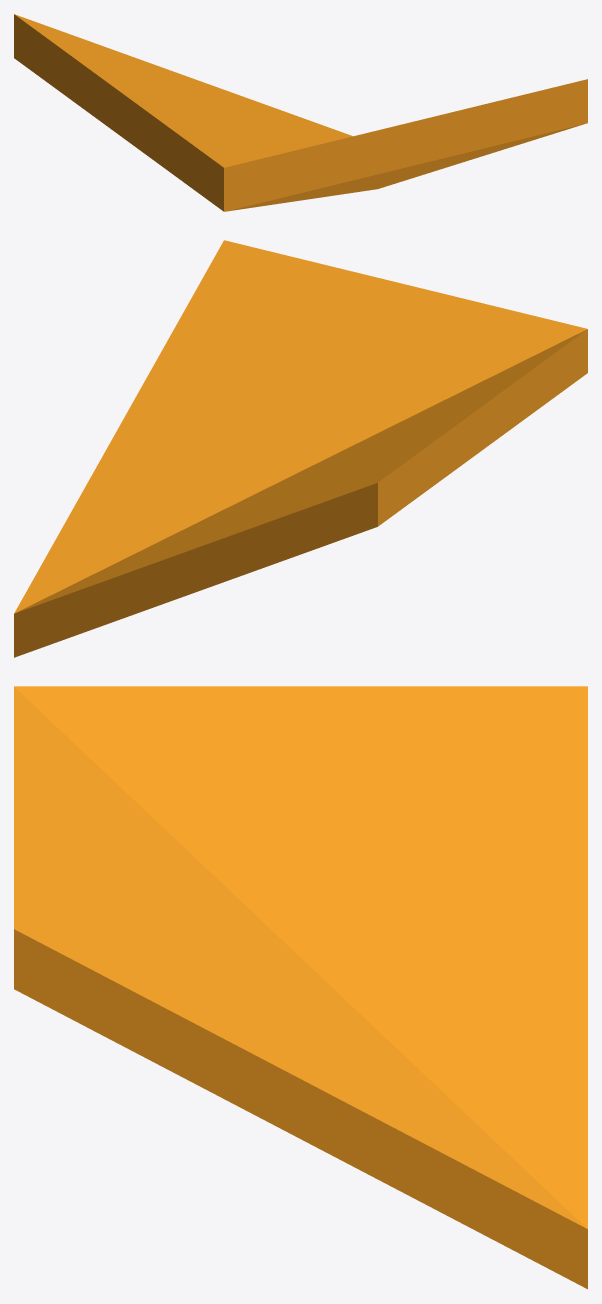
File: SM_Buildings_RoofAngledCornerInner_1x1_01.fbx
3 renders of one model, top to bottom at view 1: azimuth 30°, elevation 25°; view 2: azimuth 150°, elevation 25°; view 3: azimuth 270°, elevation 25°, orthographic. The views are drawn at different scales.
Parts seen in each view (by area): view 1: SM_Buildings_RoofAngledCornerInner_1x1_01; view 2: SM_Buildings_RoofAngledCornerInner_1x1_01; view 3: SM_Buildings_RoofAngledCornerInner_1x1_01.
Part boxes in pixels (x1,y1,x2,y2): SM_Buildings_RoofAngledCornerInner_1x1_01: (14, 14, 587, 211); SM_Buildings_RoofAngledCornerInner_1x1_01: (14, 240, 587, 657); SM_Buildings_RoofAngledCornerInner_1x1_01: (14, 686, 587, 1289).
Size of the model in its own units: 100 by 69.29 by 100.
